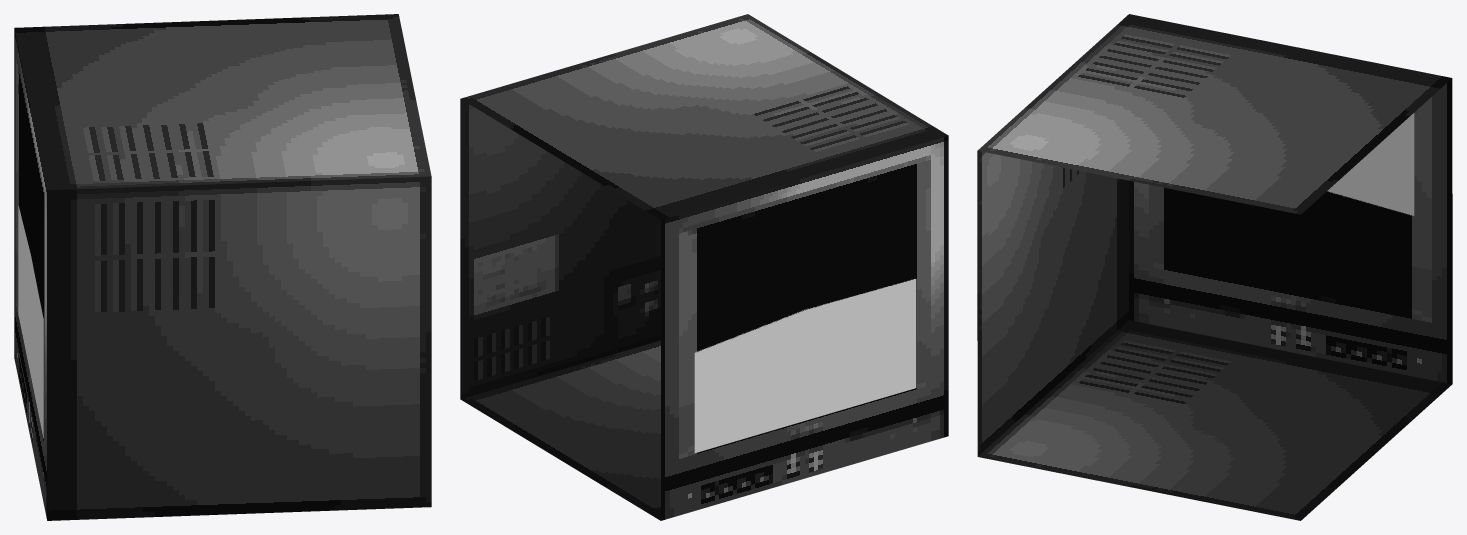
The model's file is primary_052.glb.
3 renders of one model, left to right at view 1: azimuth 30°, elevation 25°; view 2: azimuth 150°, elevation 25°; view 3: azimuth 270°, elevation 25°, orthographic. The views are drawn at different scales.
Parts seen in each view (by area): view 1: Object; view 2: Object; view 3: Object.
Boxes of the visible parts, x1=… form: Object: x1=14, y1=14, x2=431, y2=520; Object: x1=460, y1=14, x2=948, y2=520; Object: x1=977, y1=14, x2=1452, y2=520.
Size of the model in its own units: 0.6138 by 0.4366 by 0.6137.
7 materials, 7 textured.
